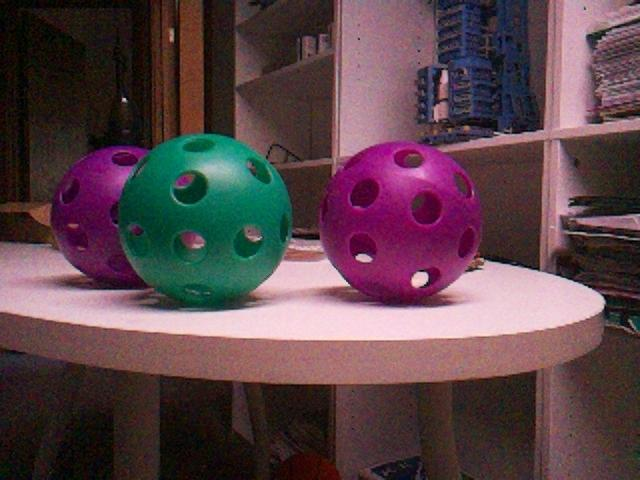Green: (117, 134, 293, 308)
Purple: (317, 140, 481, 302), (47, 148, 154, 289)
